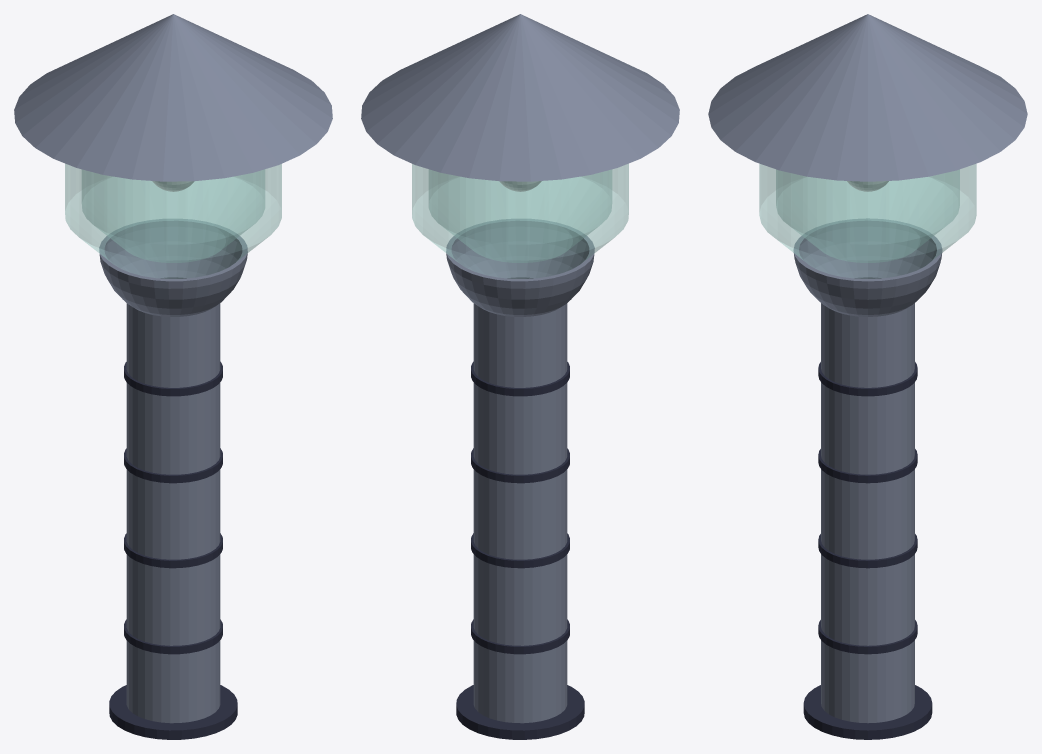
File: LightPost.fbx
The picture shows the model from 3 angles, left to right: view 1: azimuth 30°, elevation 25°; view 2: azimuth 150°, elevation 25°; view 3: azimuth 270°, elevation 25°; orthographic projection.
Visible parts, largest first — view 1: LightPost; view 2: LightPost; view 3: LightPost.
Boxes of the visible parts, x1,y1,x2,y2 form: LightPost: (14,14,332,739); LightPost: (361,14,679,739); LightPost: (708,14,1027,739).
Bounding box in the file's own units: 664 × 1603 × 664.
